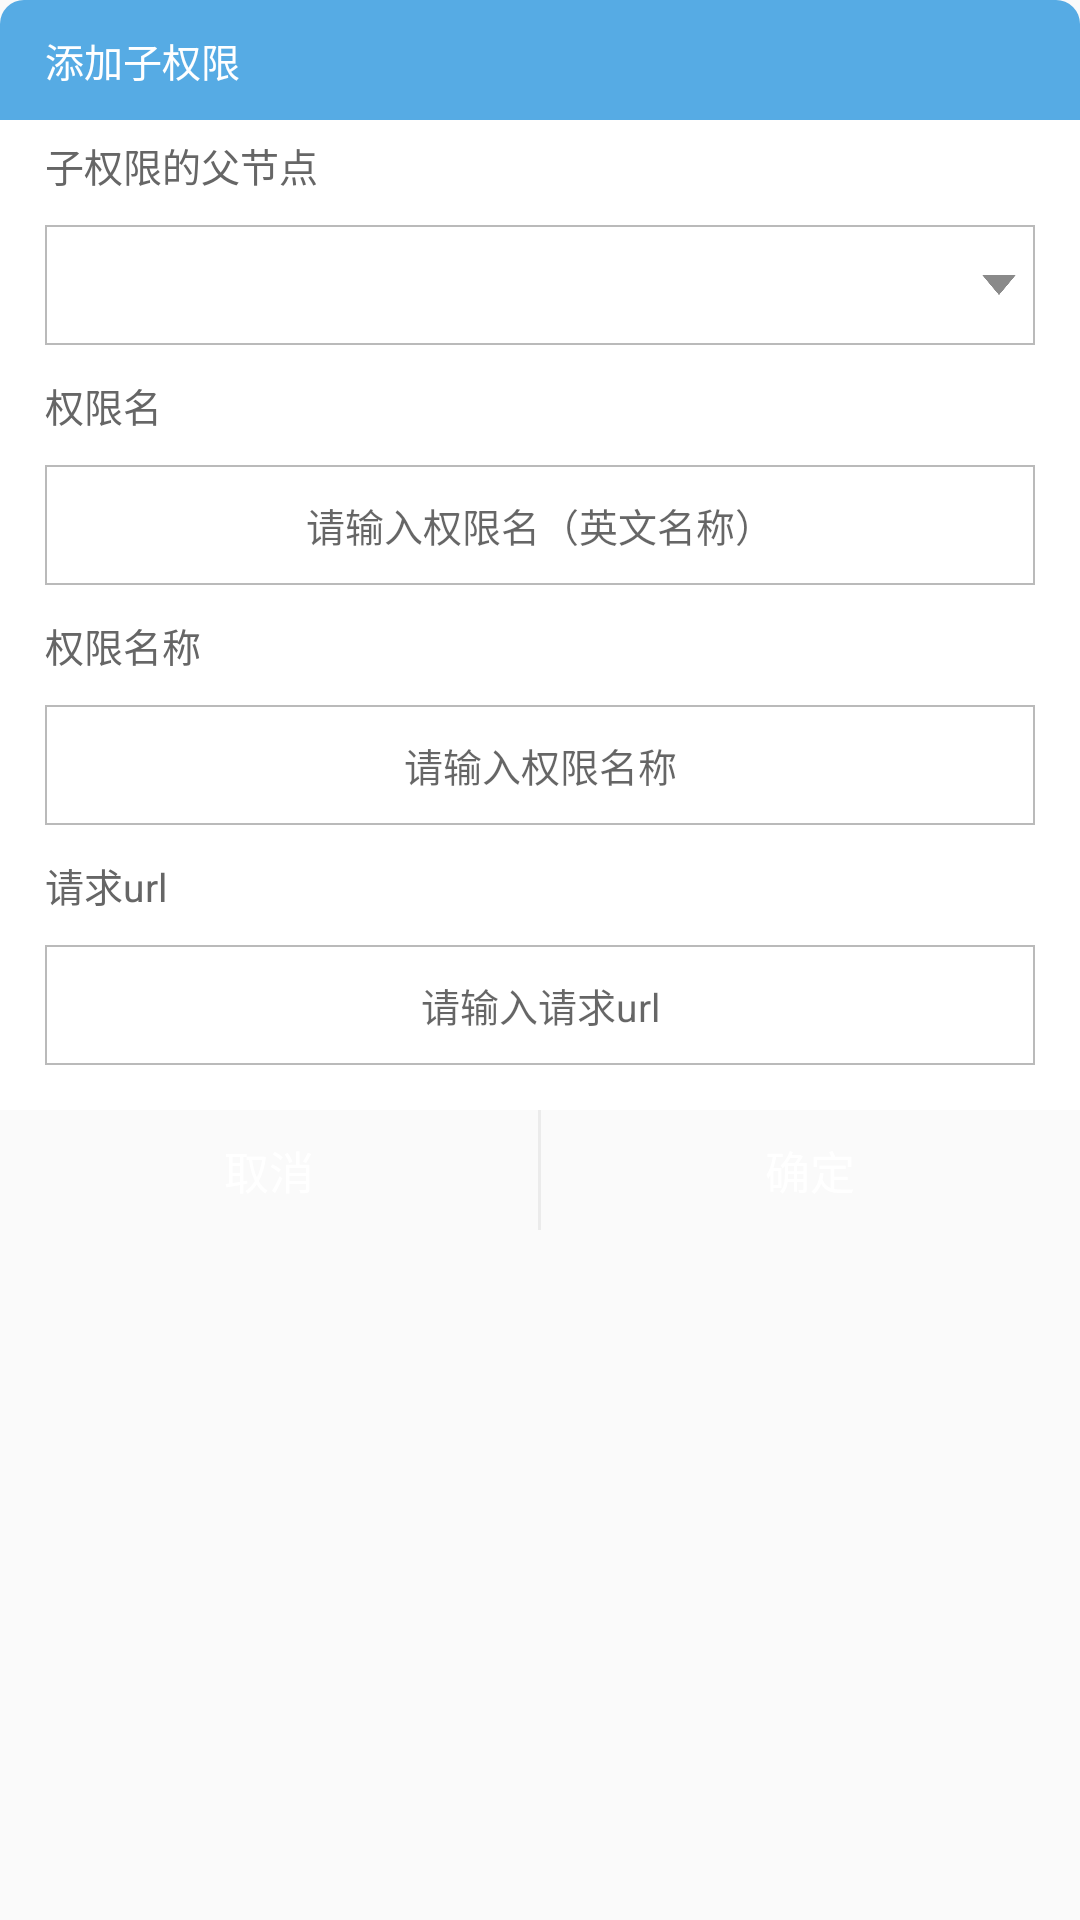

Locate icon controls on the screen. Image size 1080px×1920px, boxes as (x1, y1, x2, y2).
turn bottom: (982, 275, 1016, 295)
